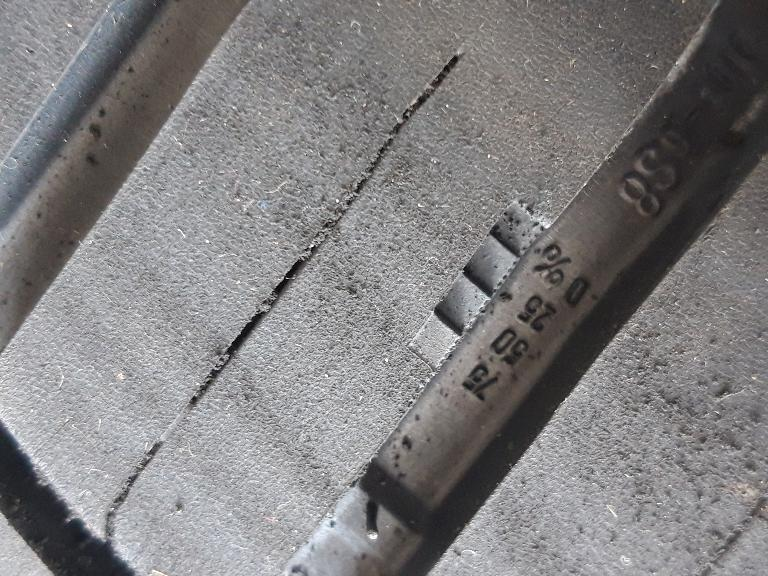temoin:75: (402, 190, 561, 385)
